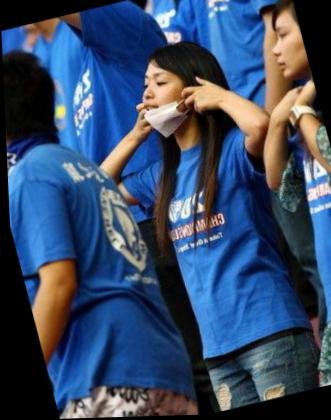NONE: (264, 22, 310, 83)
WRONG: (127, 64, 205, 141)
